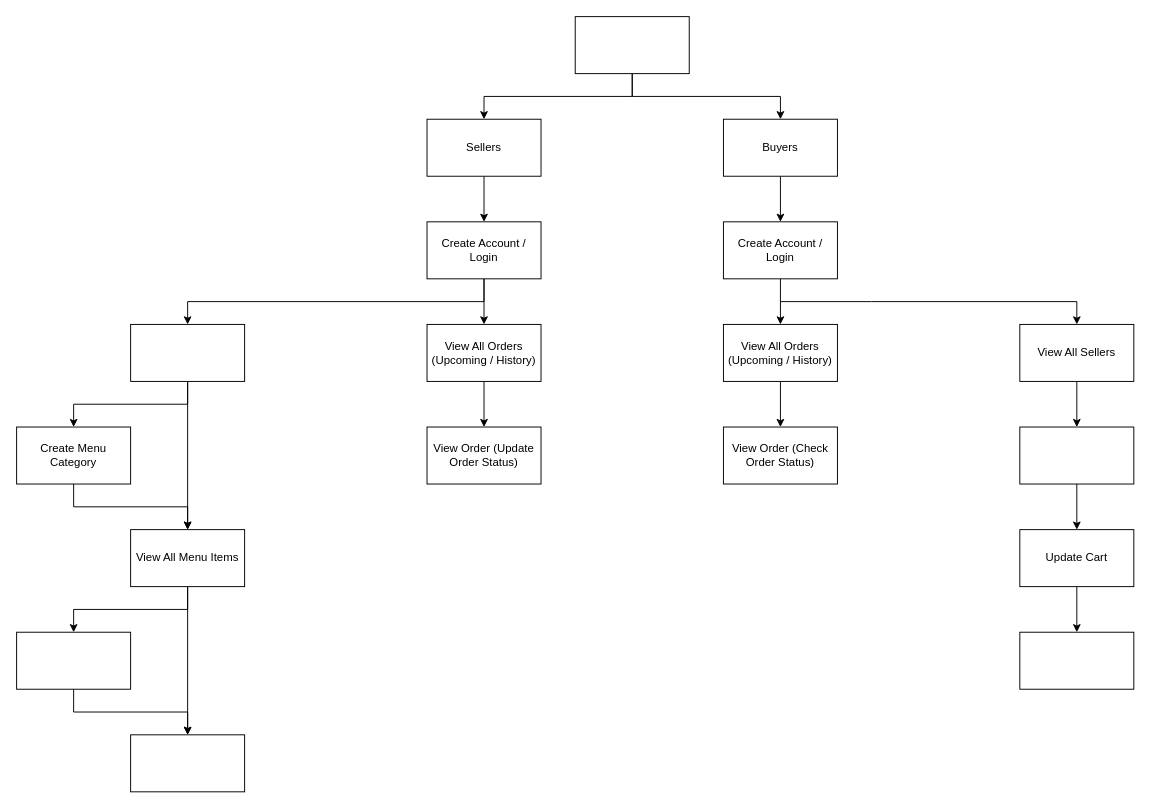
Image size: 1150x808. Some labels were removed from this diagram. Each missing label, with the box of its shape:
Create Menu Item: (16, 631, 131, 689)
GetPepper 🌶: (574, 16, 689, 74)
View All Menu Categories: (130, 323, 245, 381)
View All Menu Items with Categories + Cart Summery: (1019, 426, 1134, 484)
View Cart with All Menu Items (Confirm Order): (1019, 631, 1134, 689)
View Menu Item: (130, 734, 245, 792)
